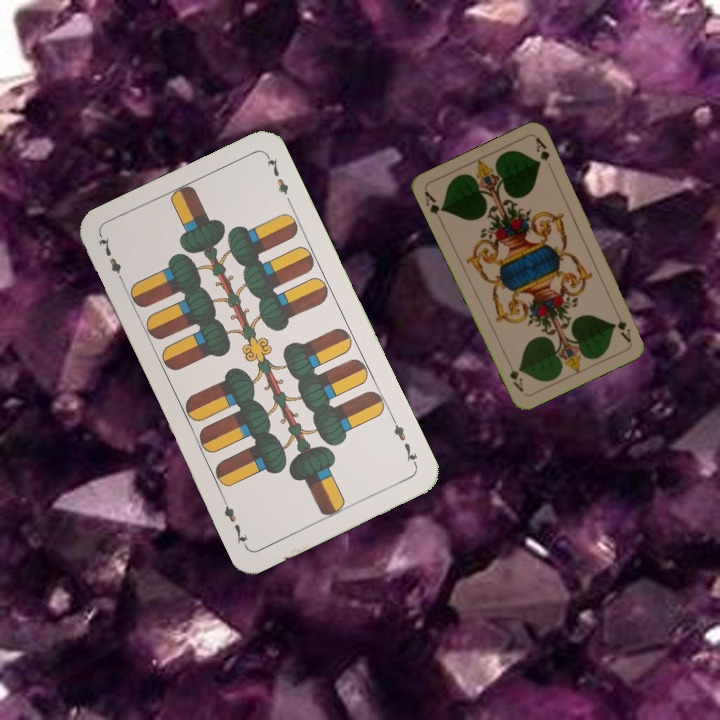E7: (94, 232, 128, 287), (388, 414, 420, 469)
GA: (420, 187, 447, 225), (613, 316, 633, 345)
